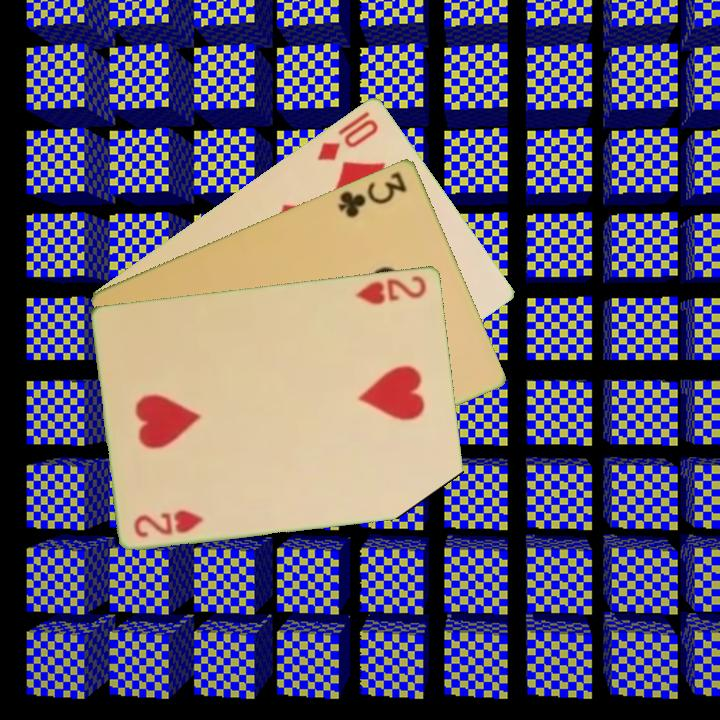10d: (313, 114, 382, 163)
2h: (352, 271, 430, 307), (131, 506, 206, 540)
3c: (334, 167, 410, 220)
